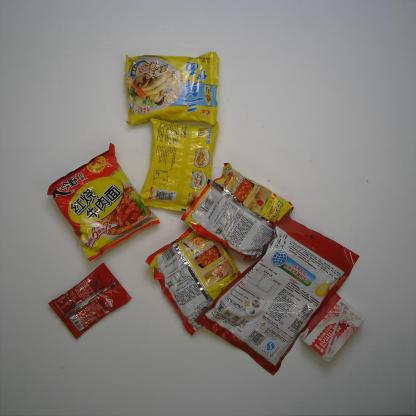Instant Drink: (194, 209, 360, 378), (48, 262, 132, 340)
Instant Noodles: (46, 141, 160, 262), (179, 162, 294, 262), (145, 221, 244, 336), (140, 117, 220, 214), (124, 51, 221, 127)
Milk: (299, 291, 365, 363)
